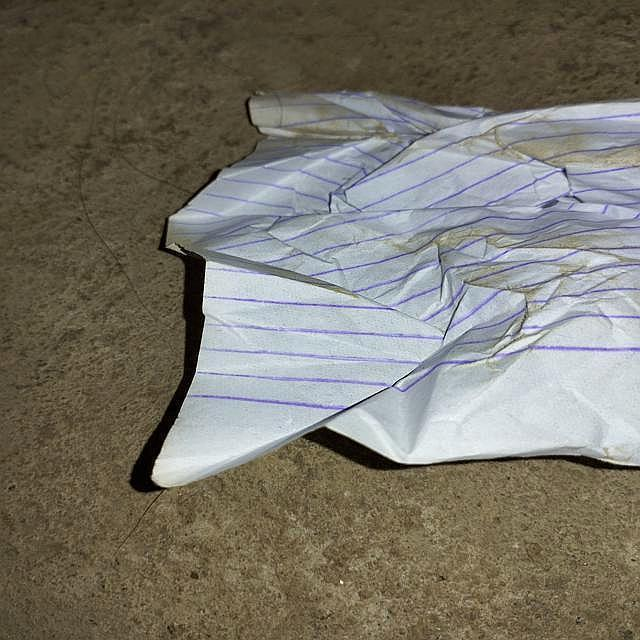Biodegradable: (153, 89, 640, 485)
